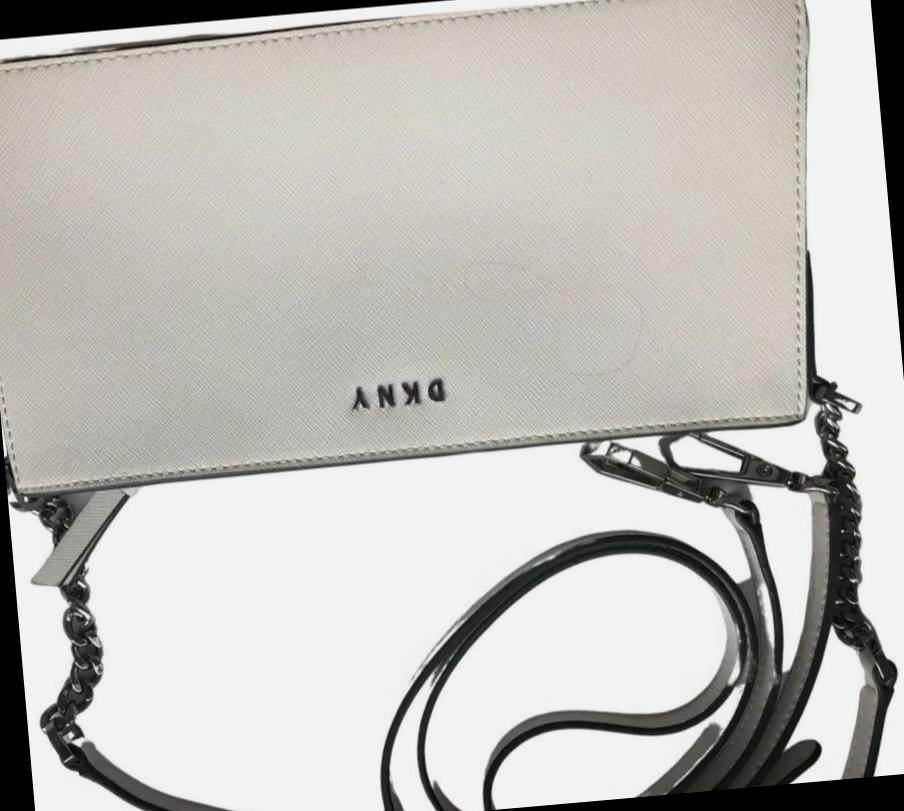DKNY: (348, 377, 443, 410)
